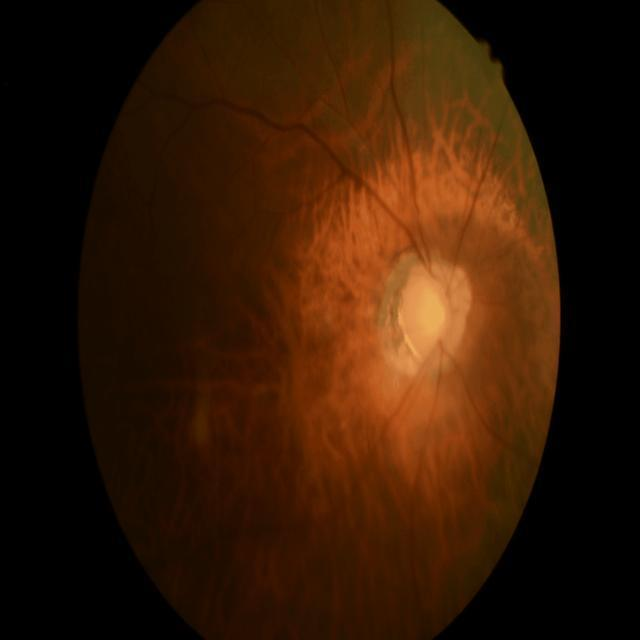cup: (410, 274, 457, 353)
disk: (401, 258, 474, 366)
